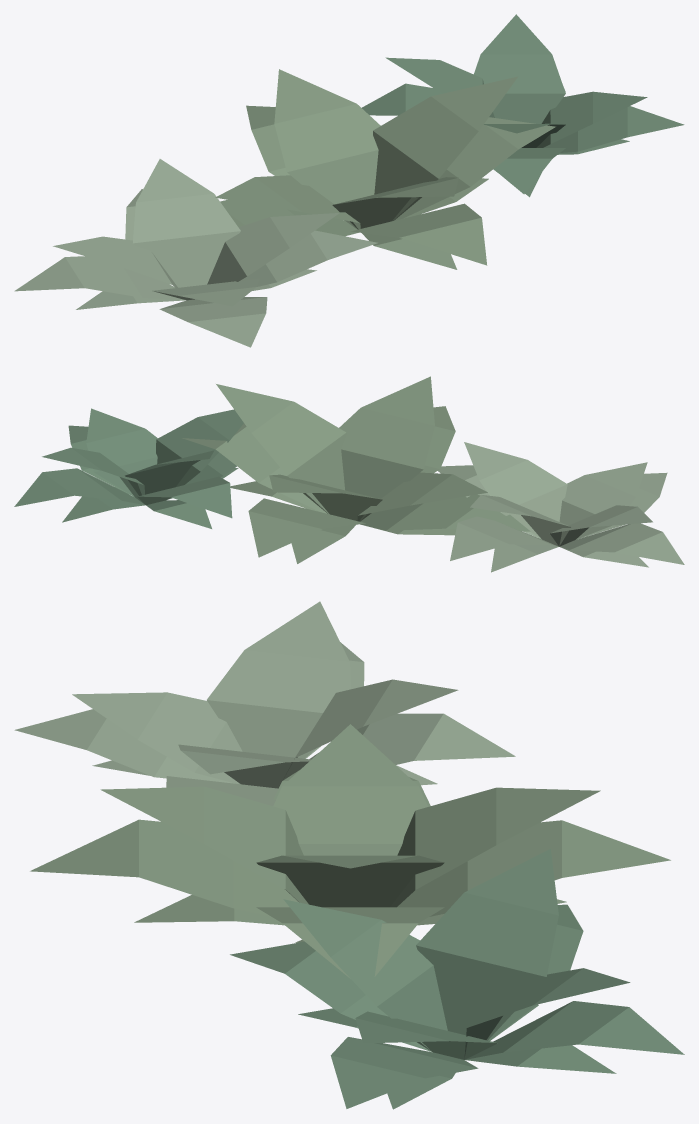
File: veg_cold_scrub.glb
3 renders of one model, top to bottom at view 1: azimuth 30°, elevation 25°; view 2: azimuth 150°, elevation 25°; view 3: azimuth 270°, elevation 25°, orthographic. The views are drawn at different scales.
Visible parts, largest first — view 1: clump_0, clump_1, clump_2; view 2: clump_0, clump_1, clump_2; view 3: clump_0, clump_2, clump_1.
Boxes of the visible parts, <box> form: clump_0: <box>215,69,555,269</box>; clump_1: <box>14,159,377,347</box>; clump_2: <box>362,14,684,197</box>; clump_0: <box>182,376,530,563</box>; clump_1: <box>438,442,684,572</box>; clump_2: <box>14,408,243,528</box>; clump_0: <box>30,724,670,978</box>; clump_2: <box>230,849,684,1109</box>; clump_1: <box>14,601,515,805</box>.
Size of the model in its own units: 1.05 by 0.1622 by 0.6295.
